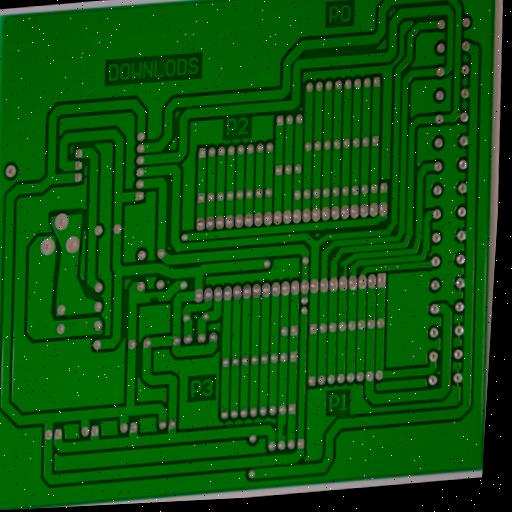mouse_bite: (147, 293, 163, 307), (278, 421, 289, 440), (336, 262, 348, 278)
